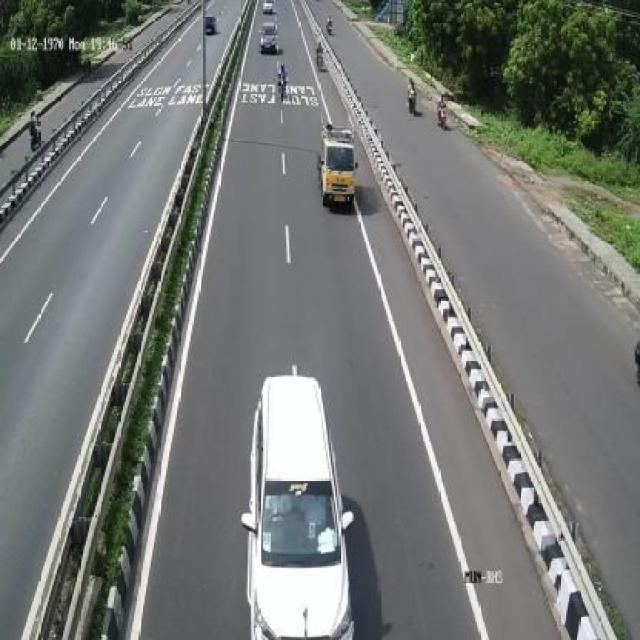car: (234, 374, 361, 635), (258, 1, 282, 54)
